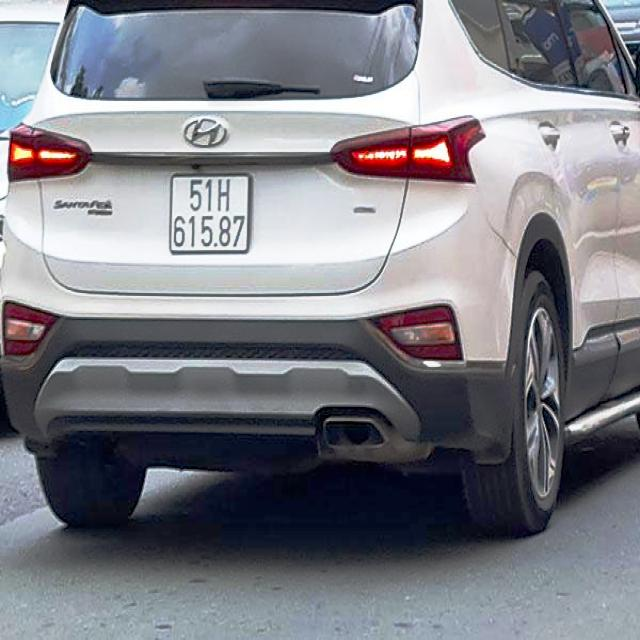license_plate: (170, 177, 254, 254)
